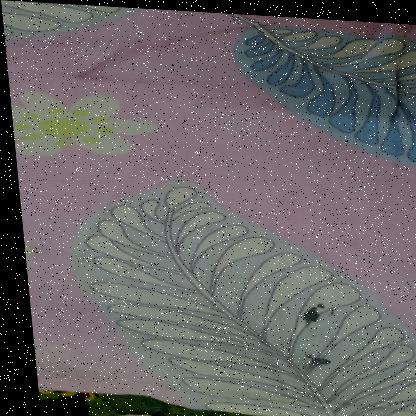spot: (286, 296, 332, 324), (291, 350, 325, 363)
